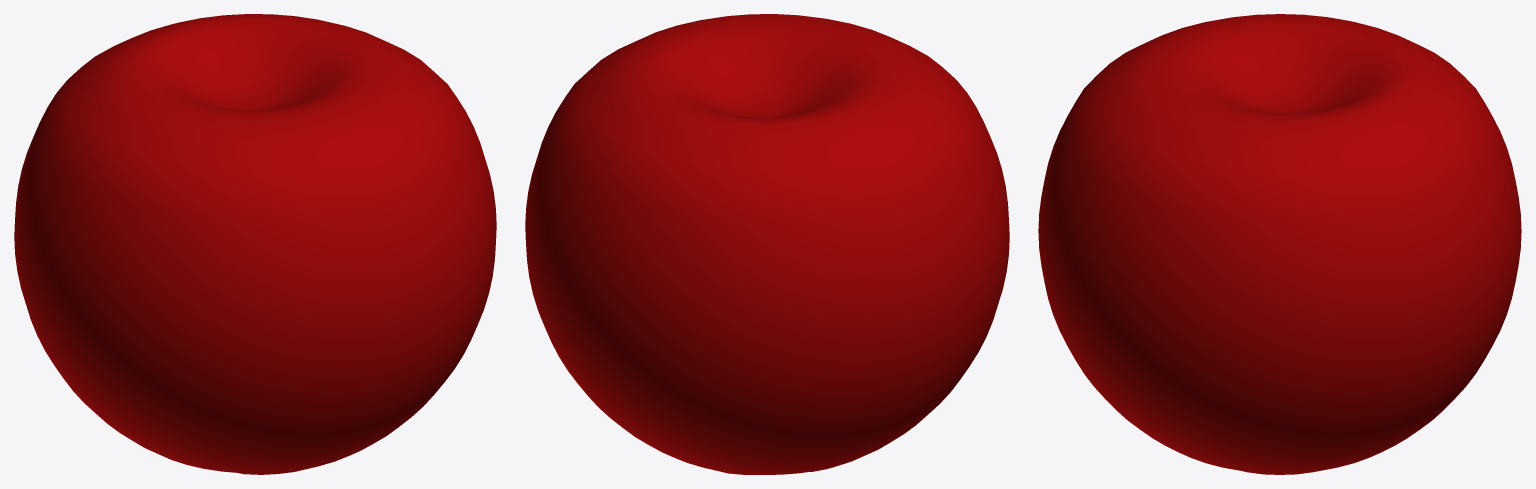
Rendered from appleWOstem.fbx.
3 views of the same model, side by side, from view 1: azimuth 30°, elevation 25°; view 2: azimuth 150°, elevation 25°; view 3: azimuth 270°, elevation 25° (orthographic).
Parts seen in each view (by area): view 1: pSphere1; view 2: pSphere1; view 3: pSphere1.
Boxes of the visible parts, left/top/right/bottom form: pSphere1: left=14, top=14, right=496, bottom=474; pSphere1: left=525, top=14, right=1009, bottom=474; pSphere1: left=1038, top=14, right=1521, bottom=474.
Bounding box in the file's own units: 1.97 × 1.64 × 1.97.
